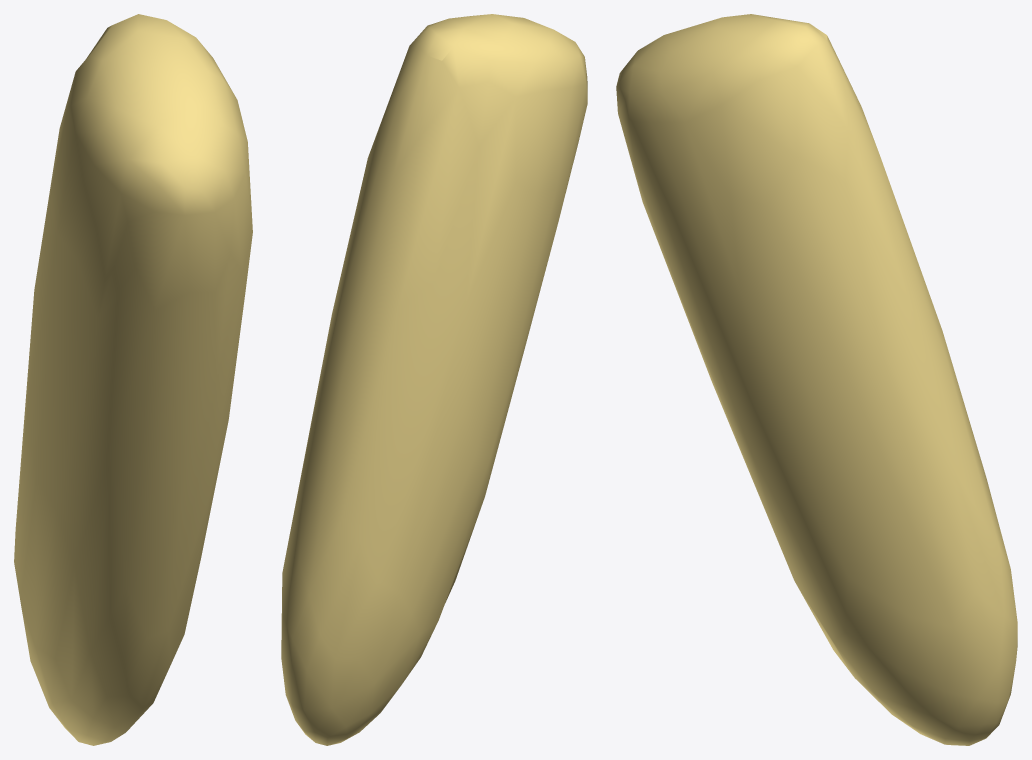
Rendered from fma73566_mm2702m.glb.
The picture shows the model from 3 angles, left to right: view 1: azimuth 30°, elevation 25°; view 2: azimuth 150°, elevation 25°; view 3: azimuth 270°, elevation 25°; orthographic projection. The views are drawn at different scales.
Visible parts, largest first — view 1: FMA73566_MM2702M; view 2: FMA73566_MM2702M; view 3: FMA73566_MM2702M.
Boxes of the visible parts, box(x1,y1,x2,y2) form: FMA73566_MM2702M: box(14, 14, 252, 745); FMA73566_MM2702M: box(281, 14, 587, 745); FMA73566_MM2702M: box(616, 14, 1017, 745).
Size of the model in its own units: 0.00314 by 0.0118 by 0.00612.
